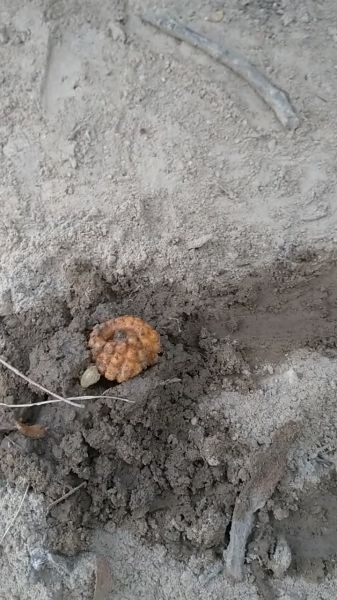eggs: (85, 311, 165, 383)
